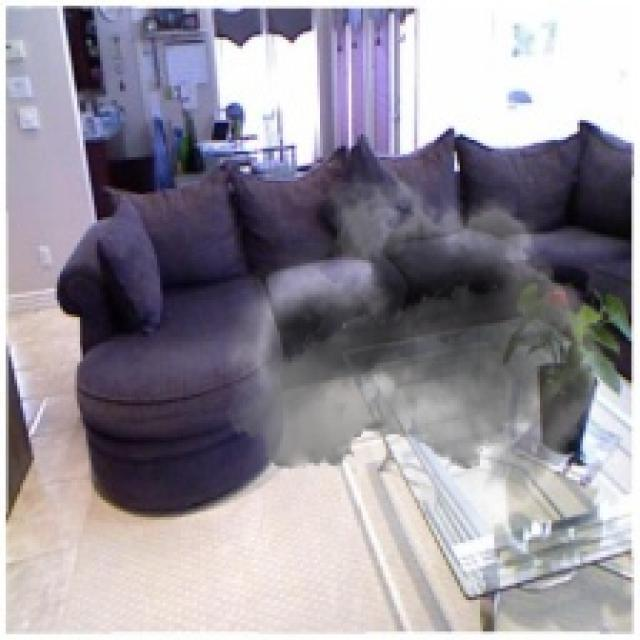Smoke: (226, 157, 632, 583)
